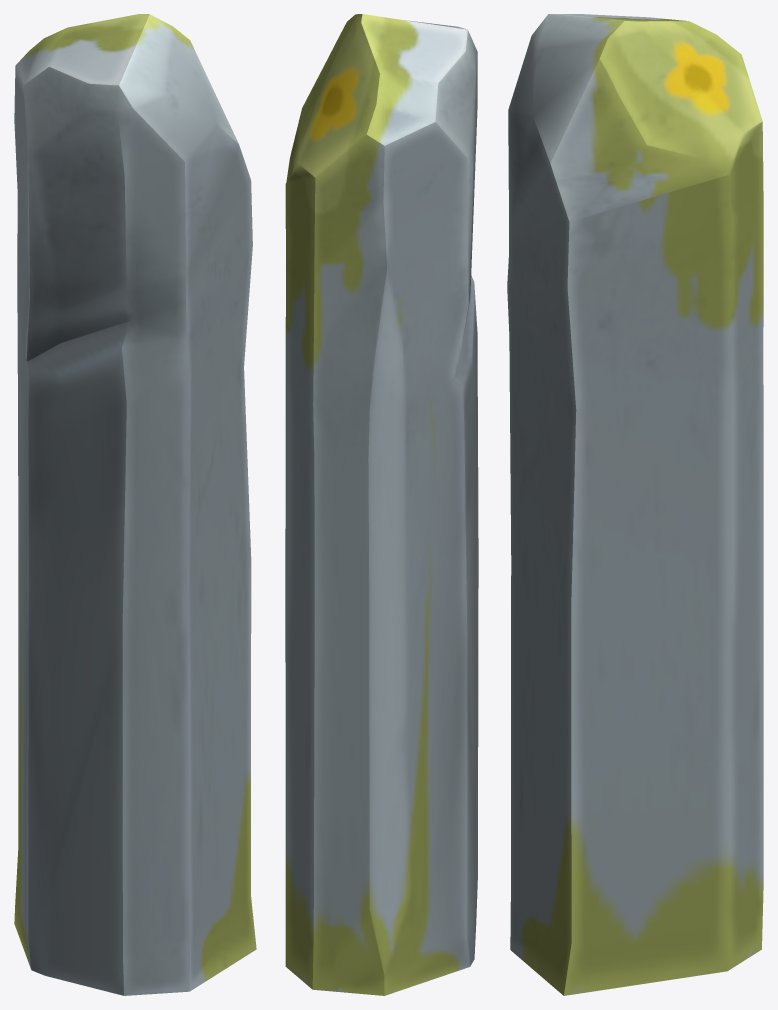
Rendered from TallStone_2.fbx.
The picture shows the model from 3 angles, left to right: view 1: azimuth 30°, elevation 25°; view 2: azimuth 150°, elevation 25°; view 3: azimuth 270°, elevation 25°; orthographic projection.
Parts seen in each view (by area): view 1: TallStone_2; view 2: TallStone_2; view 3: TallStone_2.
Part boxes in pixels (left/top/right/bottom): TallStone_2: left=14, top=14, right=256, bottom=995; TallStone_2: left=285, top=14, right=478, bottom=995; TallStone_2: left=507, top=14, right=763, bottom=995.
Bounding box in the file's own units: 0.8377 × 3.92 × 0.9714.
